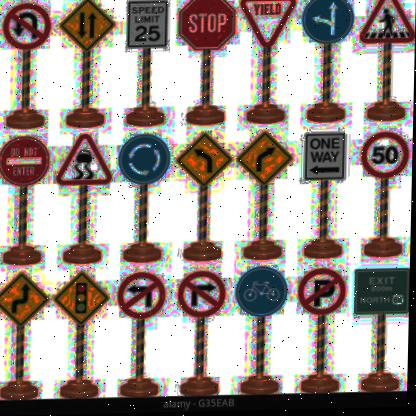No U-turn: (1, 3, 53, 51)
